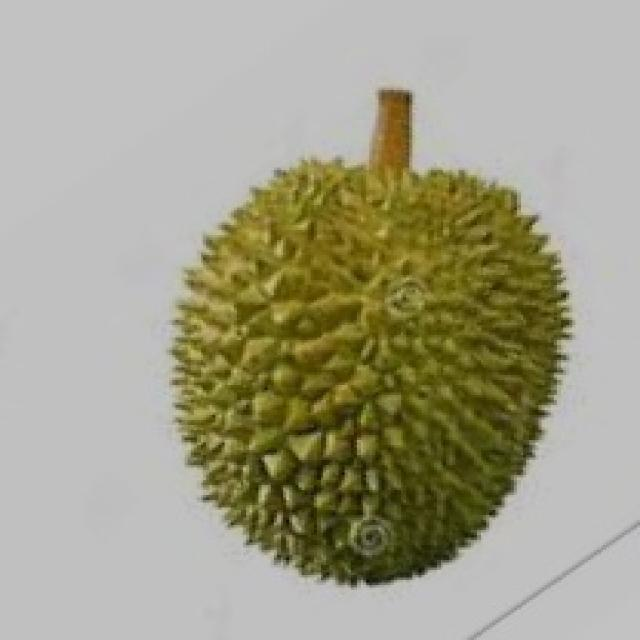fruit: (129, 268, 526, 628)
